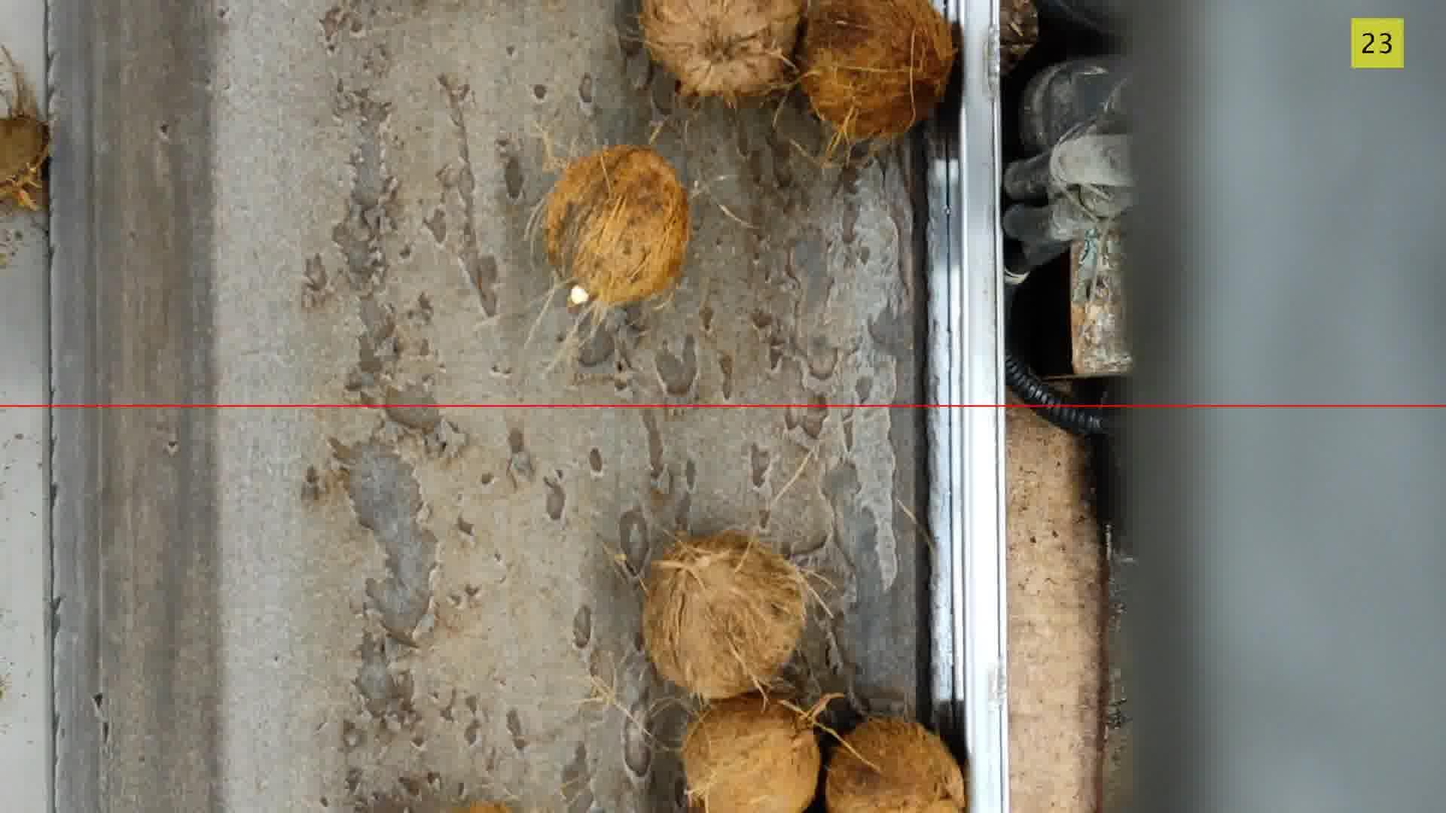Coconut: (642, 532, 809, 699), (541, 145, 691, 306), (800, 0, 956, 142), (639, 0, 806, 104), (682, 694, 821, 812), (824, 717, 967, 812), (0, 46, 50, 210), (452, 802, 512, 812)
